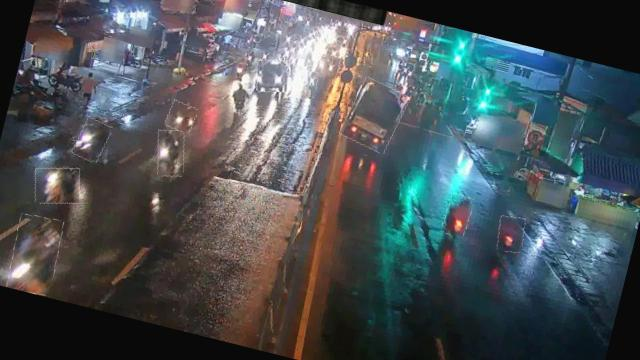Bike: (4, 212, 66, 297), (30, 161, 84, 210), (151, 126, 191, 180), (72, 117, 111, 164), (441, 192, 474, 238), (493, 214, 528, 255), (164, 100, 198, 134), (228, 81, 250, 115), (302, 70, 320, 98), (233, 60, 248, 80)
Car: (252, 56, 292, 96)
Truck: (340, 76, 409, 154)
